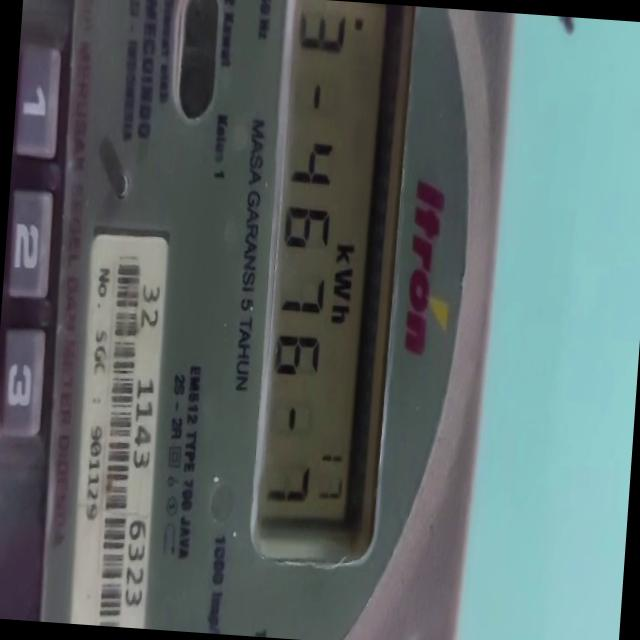LCD: (247, 0, 410, 562)
